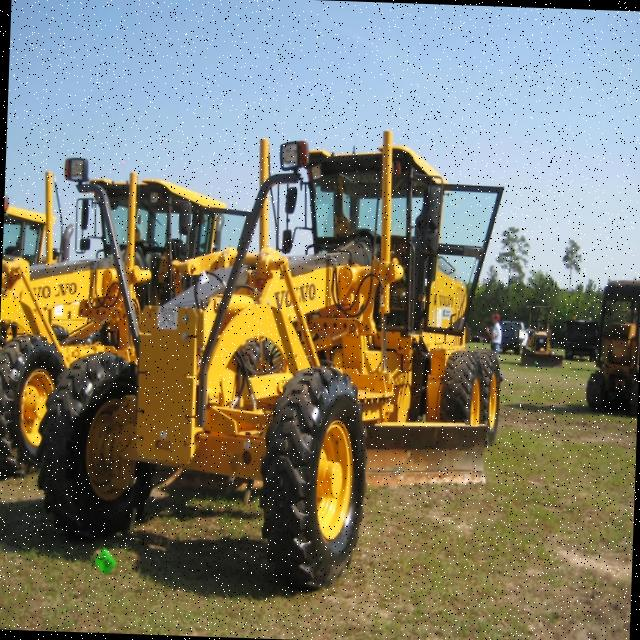Grader: (44, 96, 526, 587)
